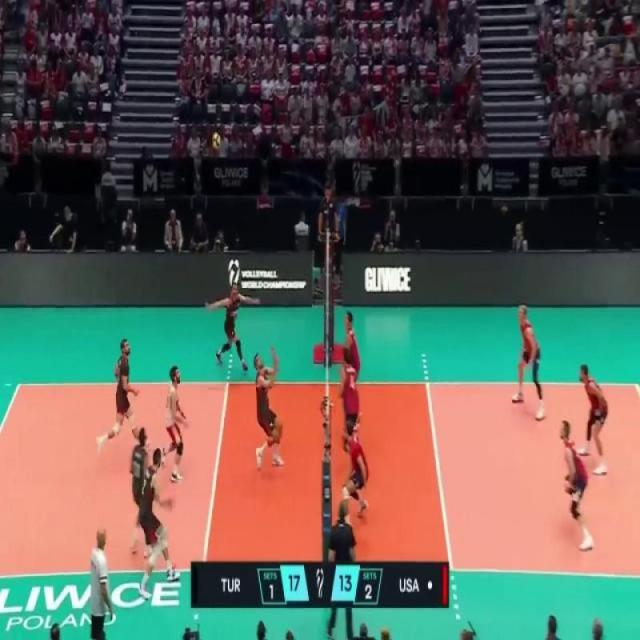volleyball: (210, 129, 222, 153), (501, 203, 508, 218)
